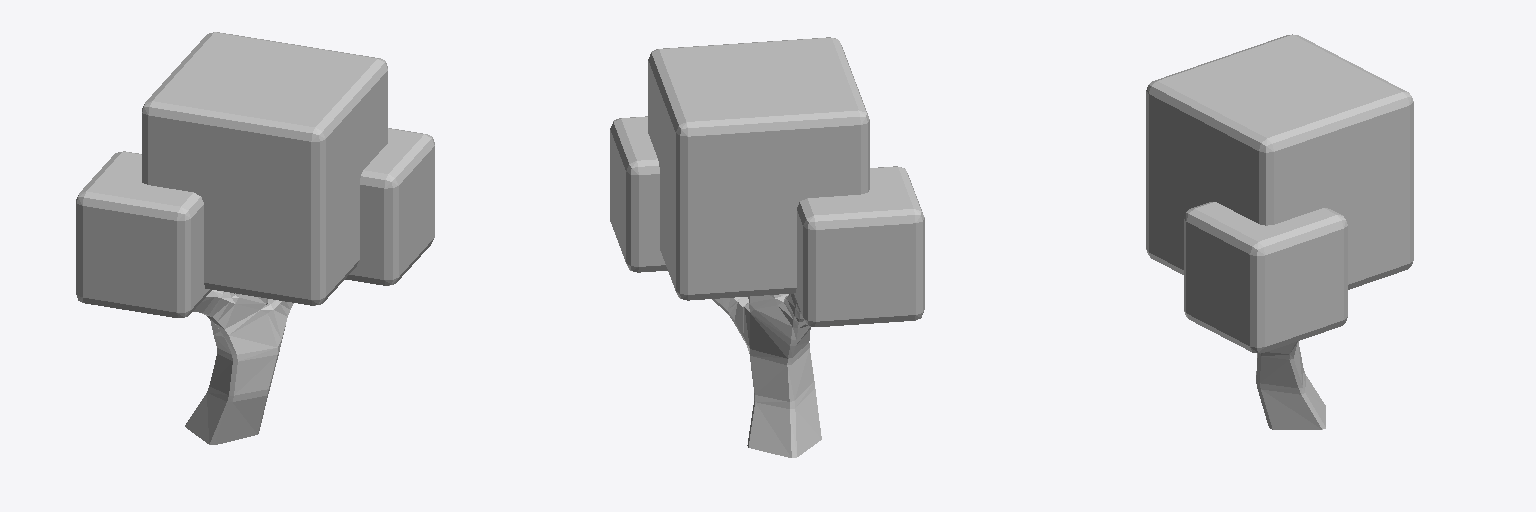
Rendered from Tree_1.obj.
3 views of the same model, side by side, from view 1: azimuth 30°, elevation 25°; view 2: azimuth 150°, elevation 25°; view 3: azimuth 270°, elevation 25° (orthographic).
Visible parts, largest first — view 1: Tree_1_Cube.078; view 2: Tree_1_Cube.078; view 3: Tree_1_Cube.078.
Part boxes in pixels (bbox=[...]): Tree_1_Cube.078: bbox=[76, 32, 434, 444]; Tree_1_Cube.078: bbox=[610, 37, 924, 457]; Tree_1_Cube.078: bbox=[1146, 34, 1413, 429].
Size of the model in its own units: 6.11 by 6.08 by 4.24.